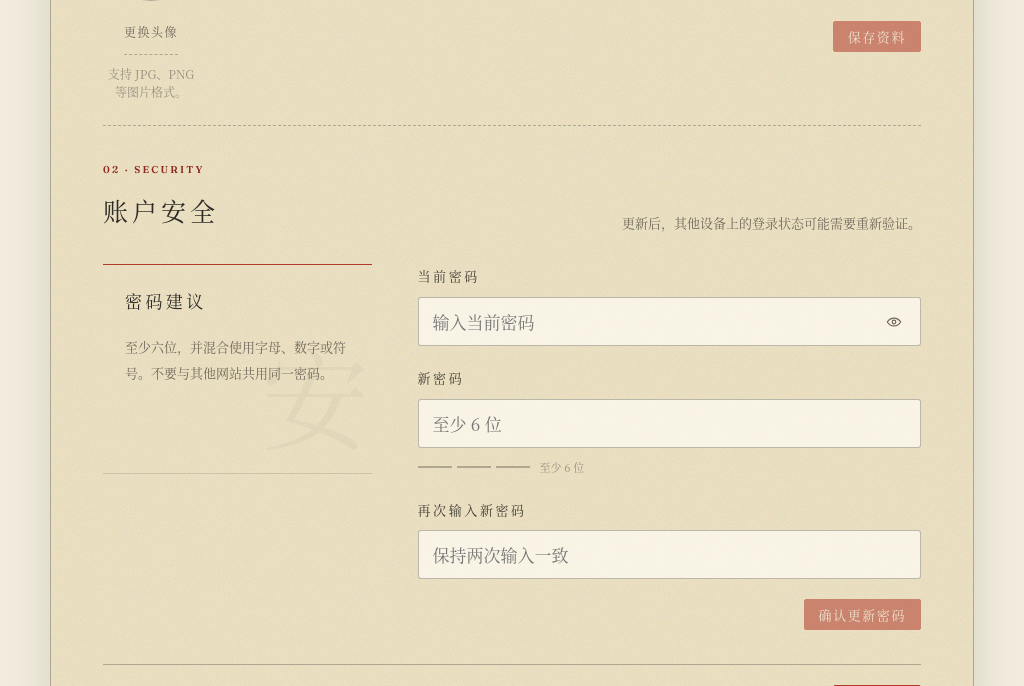
Test: public form feedback › announces a rejected password request and restores a retryable state
This screenshot has width=1024, height=686.
(page scrolled)
Type "old-pass" into the password field labelled "当前密码".
click(669, 322); type("old-pass")  # box [418,297,921,346]
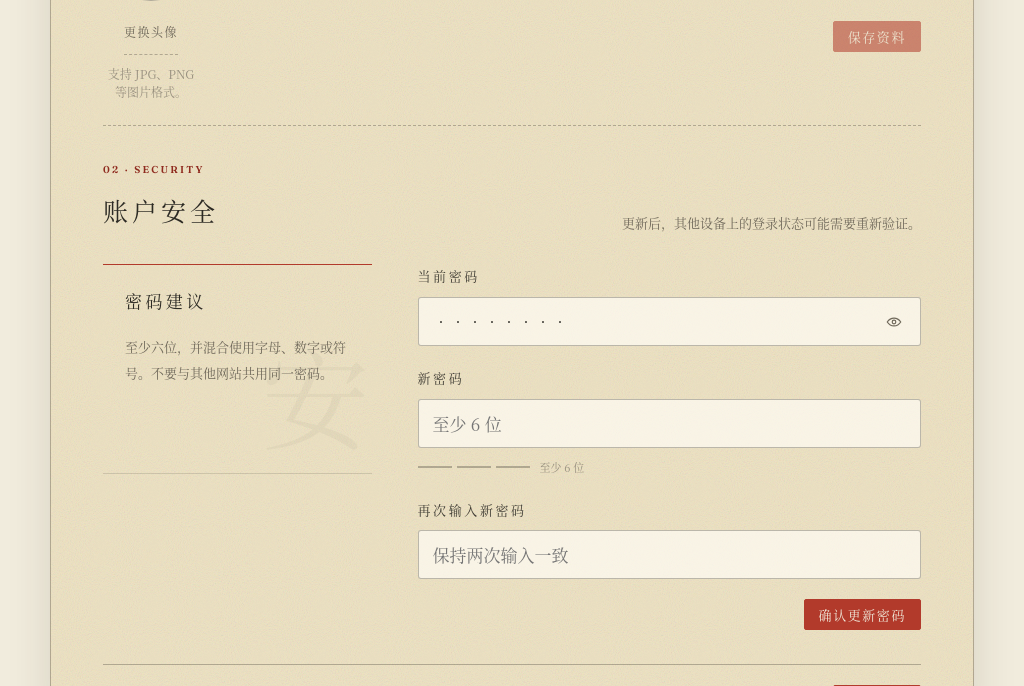
Type "new-pass" into the password field labelled "新密码".
click(669, 423); type("new-pass")  # box [418,399,921,448]
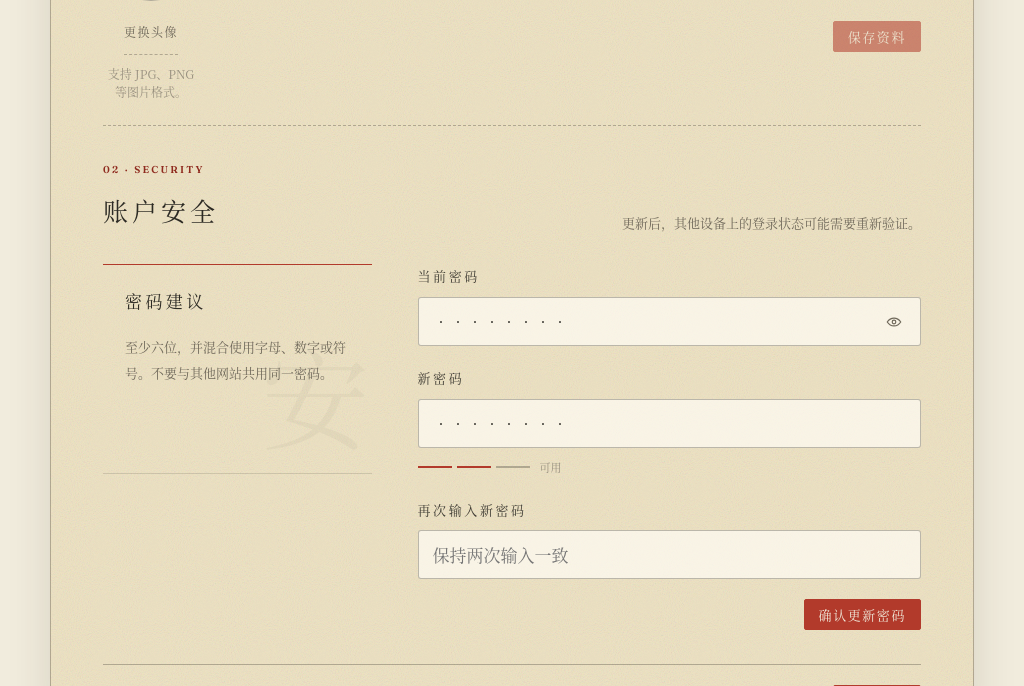
Type "new-pass" into the password field labelled "再次输入新密码".
click(669, 555); type("new-pass")  # box [418,530,921,579]
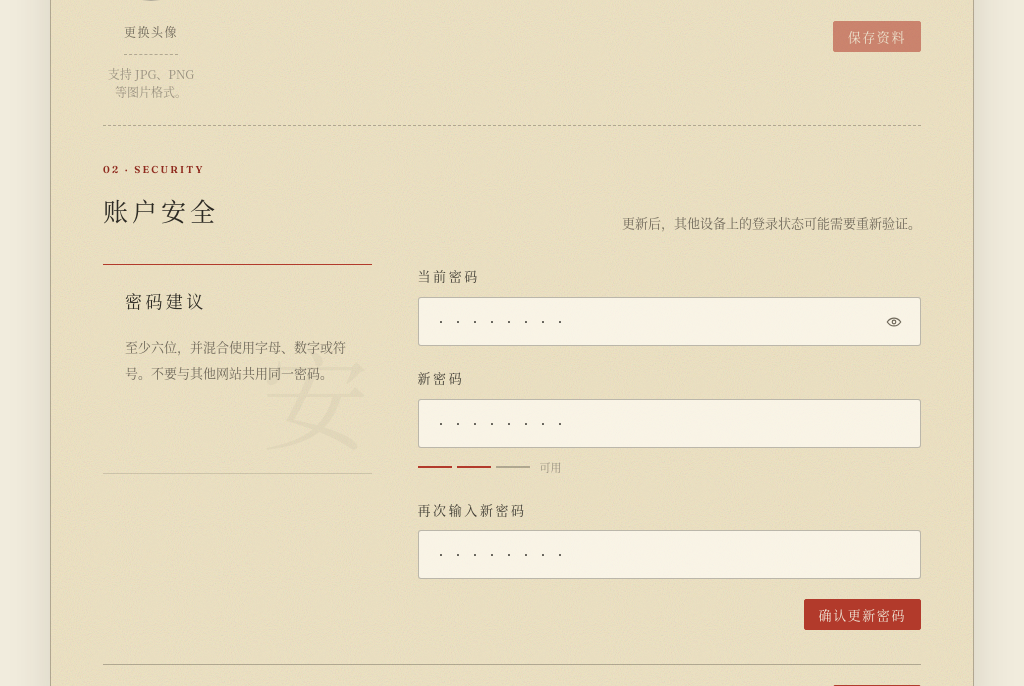
Click the button "确认更新密码".
click(862, 615)  # box [804,599,921,630]
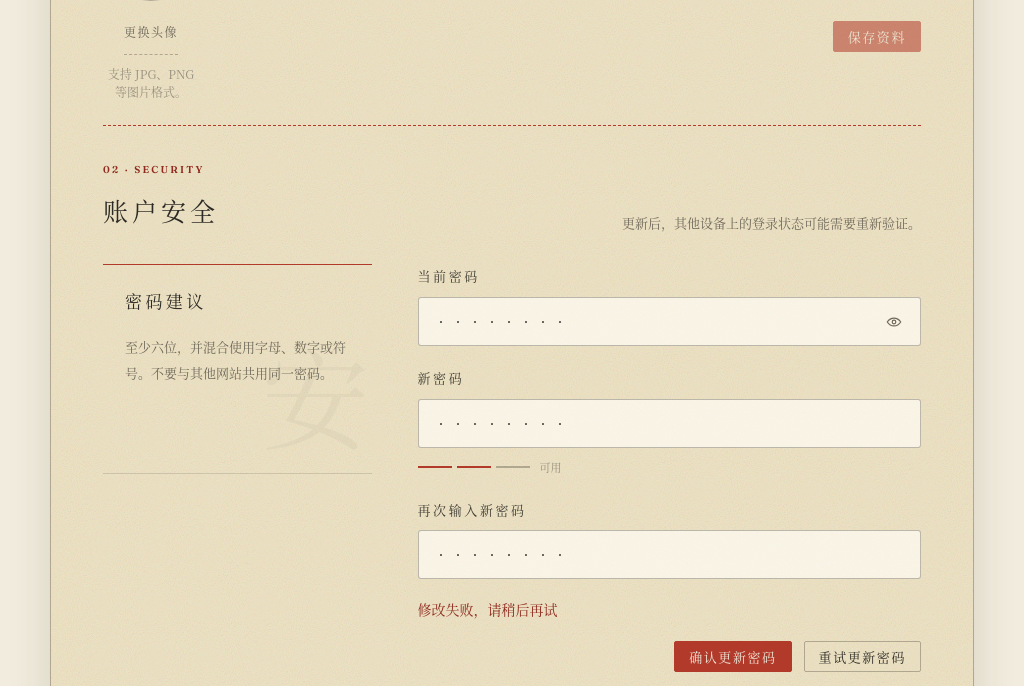
Expected: the message reads "修改失败，请稍后再试", [418,599,558,619]
Expected: the button "重试更新密码" is enabled, [804,641,921,672]
